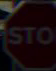Stop: (4, 13, 51, 54)
